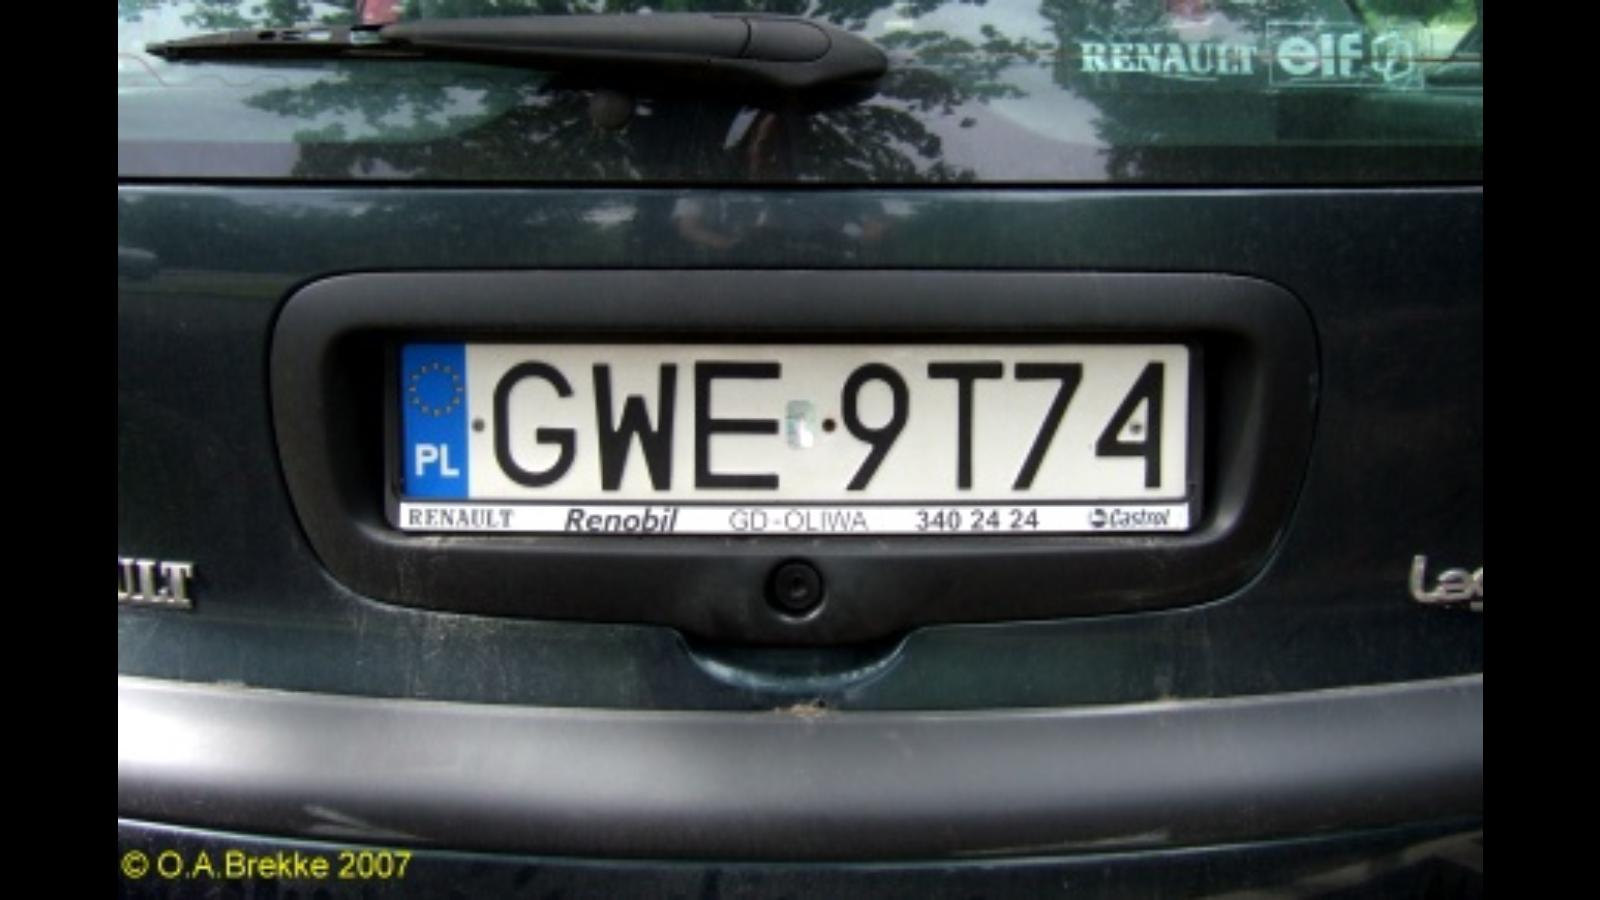plates: (385, 330, 1204, 534)
